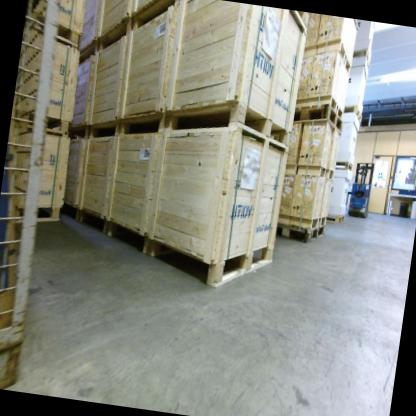pallet: (270, 217, 326, 251), (293, 100, 346, 134), (339, 101, 365, 126), (351, 43, 374, 69), (331, 157, 355, 176), (323, 212, 346, 227)
pallet_truck: (346, 157, 384, 228)
